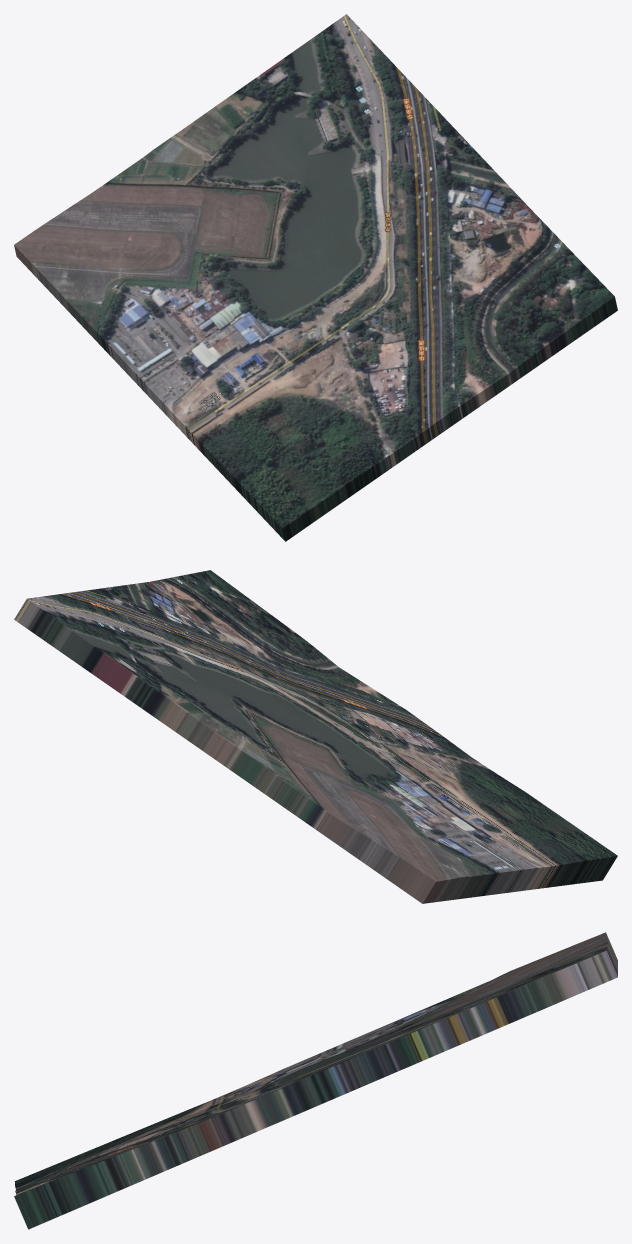
3 renders of one model, top to bottom at view 1: azimuth 30°, elevation 25°; view 2: azimuth 150°, elevation 25°; view 3: azimuth 270°, elevation 25°, orthographic. The views are drawn at different scales.
Parts seen in each view (by area): view 1: 0_1_30; view 2: 0_1_30; view 3: 0_1_30.
Part boxes in pixels (x1,y1,x2,y2): 0_1_30: (14,14,617,541); 0_1_30: (14,570,617,903); 0_1_30: (14,932,617,1229).
Bounding box in the file's own units: 602 × 451 × 555.
Materials: 1 (1 with a texture image).
